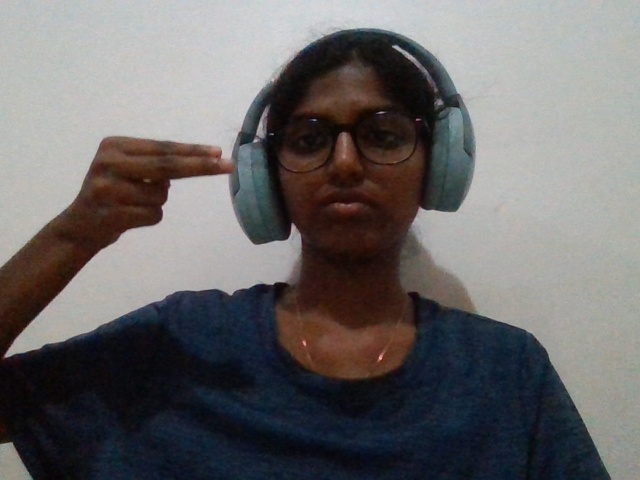H: (15, 112, 274, 309)
